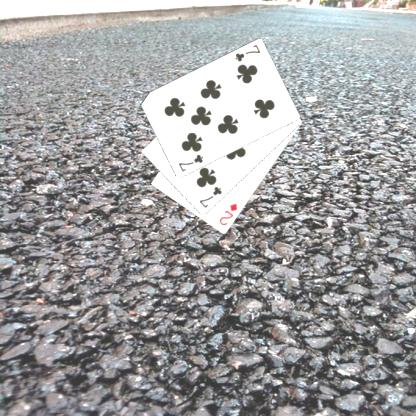2D: (216, 201, 238, 227)
7C: (196, 184, 224, 209), (232, 42, 262, 63), (176, 152, 204, 173)
